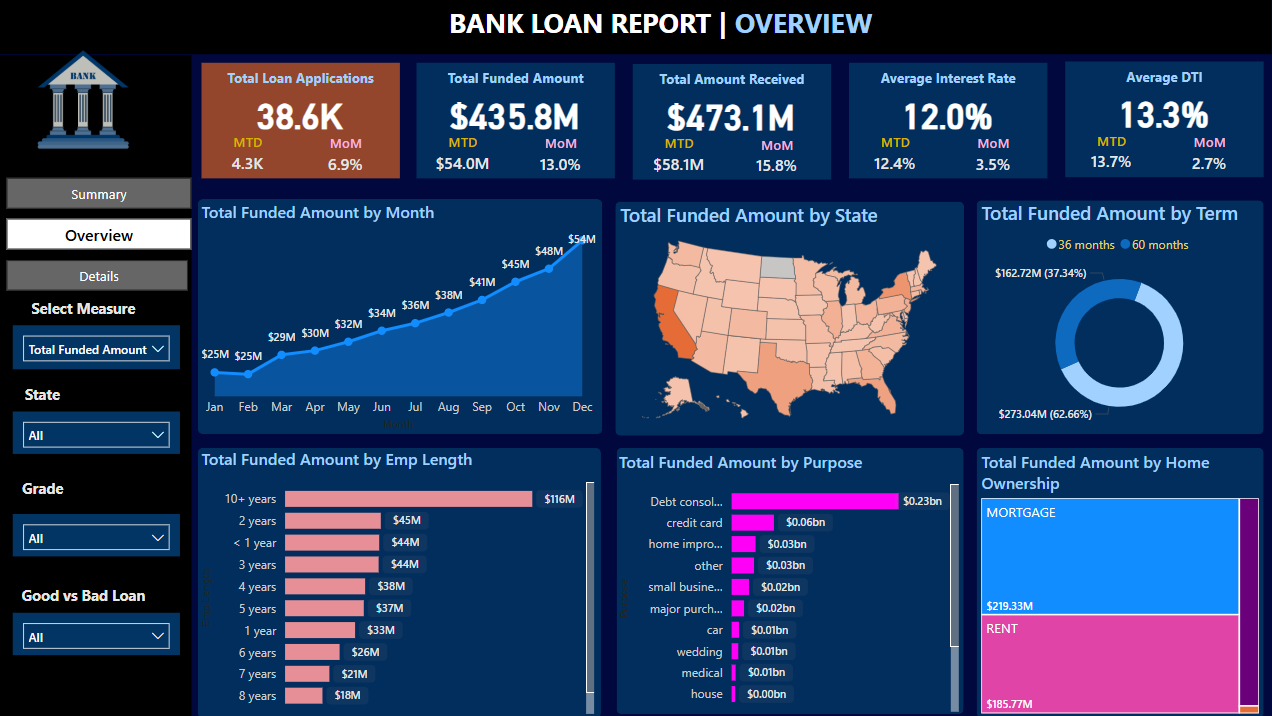

This screenshot's page, from the dashboard's own definition file:
{"tool":"powerbi","page":{"name":"Overview","canvas":[1280,720],"ordinal":1},"visuals":[{"type":"shape","box":[0,0,1280,55.5],"z":0},{"type":"shape","box":[1065.4,62.1,198.6,115.7],"z":0,"group":"g5"},{"type":"shape","box":[201.8,63.3,198.6,115.7],"z":0,"group":"g1"},{"type":"shape","box":[417.4,63.3,198.6,115.7],"z":0,"group":"g2"},{"type":"shape","box":[849.4,63.3,198.6,115.7],"z":0,"group":"g4"},{"type":"shape","box":[633.4,64.6,198.6,115.7],"z":0,"group":"g3"},{"type":"shape","box":[0,56,192.5,663.9],"z":1000},{"type":"card","fields":{"Values":["bank_loan_data.Avg DTI"]},"box":[1064.6,92.6,198.6,41.4],"z":1000,"group":"g5"},{"type":"card","fields":{"Values":["bank_loan_data.Total Loan Applications"]},"box":[201,93.8,198.6,41.4],"z":1000,"group":"g1"},{"type":"card","fields":{"Values":["bank_loan_data.Total Funded Amount"]},"box":[416.6,93.8,198.6,41.4],"z":1000,"group":"g2"},{"type":"card","fields":{"Values":["bank_loan_data.Avg Interest Rate"]},"box":[848.6,93.8,198.6,41.4],"z":1000,"group":"g4"},{"type":"card","fields":{"Values":["bank_loan_data.Total Amount Received"]},"box":[632.6,95.1,198.6,41.4],"z":1000,"group":"g3"},{"type":"textbox","box":[444.6,0,448.3,47.5],"z":2000},{"type":"textbox","box":[1065.4,63,198.6,32.9],"z":2000,"group":"g5"},{"type":"textbox","box":[201.8,64.2,198.6,32.9],"z":2000,"group":"g1"},{"type":"textbox","box":[417.4,64.2,198.6,32.9],"z":2000,"group":"g2"},{"type":"textbox","box":[849.4,64.2,198.6,32.9],"z":2000,"group":"g4"},{"type":"textbox","box":[633.4,65.5,198.6,32.9],"z":2000,"group":"g3"},{"type":"group","id":"g1","title":"Group 1","box":[201,63.3,199.3,115.7],"z":3000},{"type":"card","title":"MTD","fields":{"Values":["bank_loan_data.MTD Avg DTI"]},"box":[1071.9,132.3,80.4,43.9],"z":3000,"group":"g5"},{"type":"card","title":"MTD","fields":{"Values":["bank_loan_data.MTD Loan Applications"]},"box":[208.3,133.5,80.4,43.9],"z":3000,"group":"g1"},{"type":"card","title":"MTD","fields":{"Values":["bank_loan_data.MTD Funded Amount"]},"box":[423.9,133.5,80.4,43.9],"z":3000,"group":"g2"},{"type":"card","title":"MTD","fields":{"Values":["bank_loan_data.MTD Avg Int Rate"]},"box":[855.9,133.5,80.4,43.9],"z":3000,"group":"g4"},{"type":"card","title":"MTD","fields":{"Values":["bank_loan_data.MTD Total Amount Received"]},"box":[639.9,134.8,80.4,43.9],"z":3000,"group":"g3"},{"type":"group","id":"g2","title":"Group 1","box":[416.6,63.3,199.8,115.7],"z":4000},{"type":"card","title":"MoM","fields":{"Values":["bank_loan_data.MoM Avg DTI"]},"box":[1165.7,133.9,88.9,43.9],"z":4000,"group":"g5"},{"type":"card","title":"MoM","fields":{"Values":["bank_loan_data.MoM Loan Application"]},"box":[302.1,135.1,88.9,43.9],"z":4000,"group":"g1"},{"type":"card","title":"MoM","fields":{"Values":["bank_loan_data.MoM Total Funded Amount"]},"box":[517.7,135.1,88.9,43.9],"z":4000,"group":"g2"},{"type":"card","title":"MoM","fields":{"Values":["bank_loan_data.MoM Avg Int Rate"]},"box":[949.7,135.1,88.9,43.9],"z":4000,"group":"g4"},{"type":"card","title":"MoM","fields":{"Values":["bank_loan_data.MoM Total Amount Received"]},"box":[733.7,136.4,88.9,43.9],"z":4000,"group":"g3"},{"type":"group","id":"g3","title":"Group 1","box":[632.6,64.6,199.8,115.7],"z":5000},{"type":"group","id":"g4","title":"Group 1","box":[848.6,63.3,199.8,115.7],"z":6000},{"type":"group","id":"g5","title":"Group 1","box":[1064.6,62.1,199.8,115.7],"z":7000},{"type":"slicer","fields":{"Values":["bank_loan_data.address_state"]},"box":[13.4,412.9,166.9,42.6],"z":8000},{"type":"textbox","box":[13.3,380,59.1,32.6],"z":9000},{"type":"slicer","fields":{"Values":["bank_loan_data.grade"]},"box":[13.4,515.3,166.9,42.6],"z":10000},{"type":"textbox","box":[13.4,473.8,59.7,41.4],"z":11000},{"type":"slicer","fields":{"Values":["bank_loan_data.Good vs Bad Loan"]},"box":[13.4,613.9,166.9,42.6],"z":12000},{"type":"textbox","box":[13.3,581.5,141.2,32.6],"z":13000},{"type":"shape","box":[198.6,199.8,404.4,235.1],"z":14000},{"type":"areaChart","fields":{"Y":["bank_loan_data.Total Funded Amount"],"Category":["Date Table.Month"]},"box":[197.3,201,404.4,235.1],"z":15000},{"type":"slicer","fields":{"Values":["Select Measure.Select Measure"]},"box":[13.4,326.5,166.9,43.9],"z":16000},{"type":"textbox","box":[13.3,293.2,141.2,33.8],"z":17000},{"type":"shape","box":[616.5,202.7,348.7,234],"z":18000},{"type":"shapeMap","fields":{"Category":["bank_loan_data.address_state"],"Value":["bank_loan_data.Total Funded Amount"]},"box":[616.5,202.7,348.7,231.6],"z":18001},{"type":"shape","box":[977.2,201.5,287.1,234],"z":18002},{"type":"donutChart","fields":{"Category":["bank_loan_data.term"],"Y":["bank_loan_data.Total Funded Amount"]},"box":[977.2,201.5,285.9,232.8],"z":18003},{"type":"shape","box":[199.1,448.8,403,270.2],"z":18004},{"type":"barChart","fields":{"Category":["bank_loan_data.emp_length"],"Y":["bank_loan_data.Total Funded Amount"]},"box":[197.9,448.8,403,271.4],"z":18005},{"type":"shape","box":[617.7,448.8,347.5,266.6],"z":18006},{"type":"barChart","fields":{"Category":["bank_loan_data.purpose"],"Y":["bank_loan_data.Total Funded Amount"]},"box":[615.3,451.2,349.9,266.6],"z":18007},{"type":"shape","box":[977.2,448.8,287.1,270.2],"z":18008},{"type":"treemap","fields":{"Group":["bank_loan_data.home_ownership"],"Values":["bank_loan_data.Total Funded Amount"]},"box":[977.2,451.2,287.1,267.8],"z":18009},{"type":"image","box":[13.3,27.7,141.2,146],"z":18010},{"type":"pageNavigator","box":[7.2,178.6,185.8,114.6],"z":18011}]}

Visuals, with their boxes in screenshot pixels (x1, y1, x2, y2), scaled from the page's 1280x720 canvas onto the 1272x716 screenshot:
shape: x1=0, y1=0, x2=1271, y2=55
shape: x1=1059, y1=62, x2=1256, y2=177
shape: x1=201, y1=63, x2=398, y2=178
shape: x1=415, y1=63, x2=612, y2=178
shape: x1=844, y1=63, x2=1041, y2=178
shape: x1=629, y1=64, x2=827, y2=179
shape: x1=0, y1=56, x2=191, y2=715
card - bank_loan_data.Avg DTI: x1=1058, y1=92, x2=1255, y2=133
card - bank_loan_data.Total Loan Applications: x1=200, y1=93, x2=397, y2=134
card - bank_loan_data.Total Funded Amount: x1=414, y1=93, x2=611, y2=134
card - bank_loan_data.Avg Interest Rate: x1=843, y1=93, x2=1041, y2=134
card - bank_loan_data.Total Amount Received: x1=629, y1=95, x2=826, y2=136
textbox: x1=442, y1=0, x2=887, y2=47
textbox: x1=1059, y1=63, x2=1256, y2=95
textbox: x1=201, y1=64, x2=398, y2=97
textbox: x1=415, y1=64, x2=612, y2=97
textbox: x1=844, y1=64, x2=1041, y2=97
textbox: x1=629, y1=65, x2=827, y2=98
"Group 1" group: x1=200, y1=63, x2=398, y2=178
"MTD" card: x1=1065, y1=132, x2=1145, y2=175
"MTD" card: x1=207, y1=133, x2=287, y2=176
"MTD" card: x1=421, y1=133, x2=501, y2=176
"MTD" card: x1=851, y1=133, x2=930, y2=176
"MTD" card: x1=636, y1=134, x2=716, y2=178
"Group 1" group: x1=414, y1=63, x2=613, y2=178
"MoM" card: x1=1158, y1=133, x2=1247, y2=177
"MoM" card: x1=300, y1=134, x2=389, y2=178
"MoM" card: x1=514, y1=134, x2=603, y2=178
"MoM" card: x1=944, y1=134, x2=1032, y2=178
"MoM" card: x1=729, y1=136, x2=817, y2=179
"Group 1" group: x1=629, y1=64, x2=827, y2=179
"Group 1" group: x1=843, y1=63, x2=1042, y2=178
"Group 1" group: x1=1058, y1=62, x2=1256, y2=177
slicer - bank_loan_data.address_state: x1=13, y1=411, x2=179, y2=453
textbox: x1=13, y1=378, x2=72, y2=410
slicer - bank_loan_data.grade: x1=13, y1=512, x2=179, y2=555
textbox: x1=13, y1=471, x2=73, y2=512
slicer - bank_loan_data.Good vs Bad Loan: x1=13, y1=610, x2=179, y2=653
textbox: x1=13, y1=578, x2=154, y2=611
shape: x1=197, y1=199, x2=599, y2=432
areaChart - bank_loan_data.Total Funded Amount x Date Table.Month: x1=196, y1=200, x2=598, y2=434
slicer - Select Measure.Select Measure: x1=13, y1=325, x2=179, y2=368
textbox: x1=13, y1=292, x2=154, y2=325
shape: x1=613, y1=202, x2=959, y2=434
shapeMap - bank_loan_data.address_state x bank_loan_data.Total Funded Amount: x1=613, y1=202, x2=959, y2=432
shape: x1=971, y1=200, x2=1256, y2=433
donutChart - bank_loan_data.term x bank_loan_data.Total Funded Amount: x1=971, y1=200, x2=1255, y2=432
shape: x1=198, y1=446, x2=598, y2=715
barChart - bank_loan_data.emp_length x bank_loan_data.Total Funded Amount: x1=197, y1=446, x2=597, y2=715
shape: x1=614, y1=446, x2=959, y2=711
barChart - bank_loan_data.purpose x bank_loan_data.Total Funded Amount: x1=611, y1=449, x2=959, y2=714
shape: x1=971, y1=446, x2=1256, y2=715
treemap - bank_loan_data.home_ownership x bank_loan_data.Total Funded Amount: x1=971, y1=449, x2=1256, y2=715
image: x1=13, y1=28, x2=154, y2=173
pageNavigator: x1=7, y1=178, x2=192, y2=292
